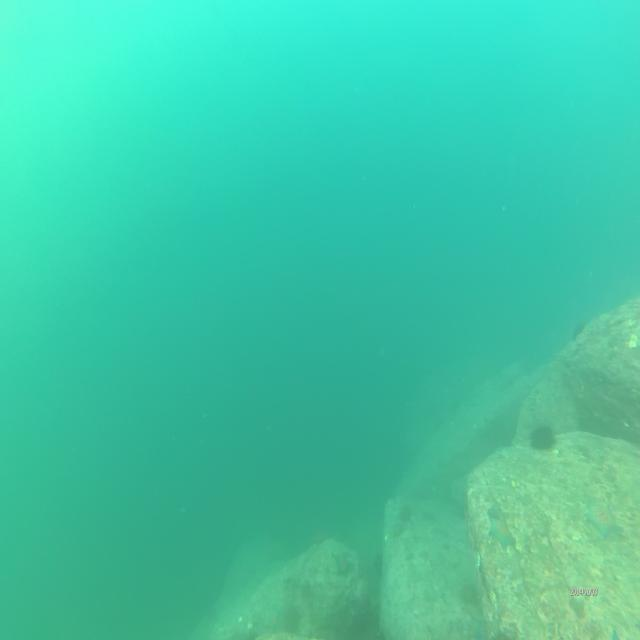echinus: (529, 422, 555, 453)
starfish: (584, 497, 622, 539), (487, 511, 515, 549), (332, 550, 352, 576)
